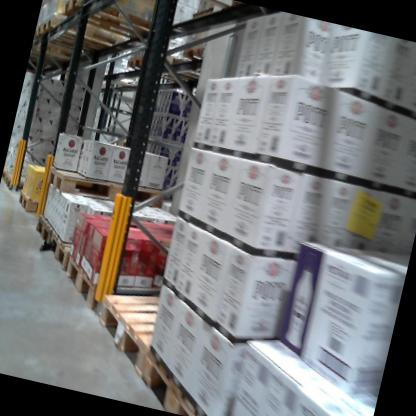pallet: (79, 272, 188, 385), (39, 157, 174, 222), (54, 252, 158, 329), (40, 10, 158, 66), (54, 0, 170, 51), (139, 356, 236, 416), (32, 20, 108, 67), (119, 49, 202, 89), (150, 0, 255, 28), (42, 225, 81, 276), (12, 189, 52, 222), (0, 169, 40, 201), (177, 36, 209, 70), (30, 214, 56, 251)
